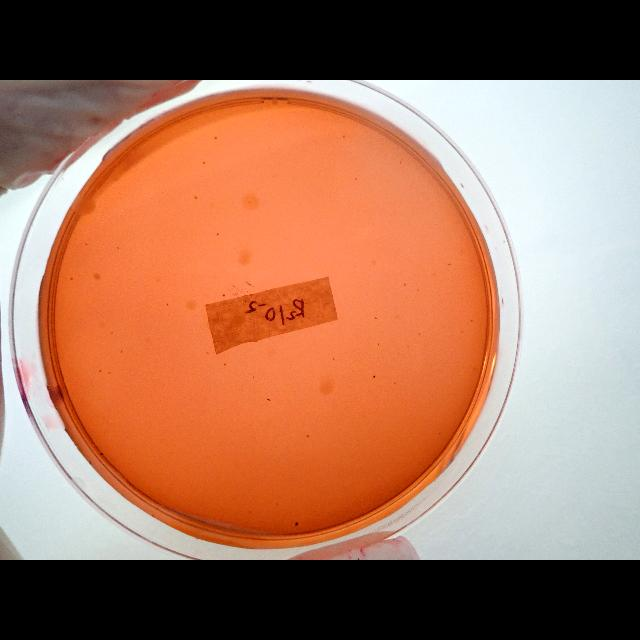colony: (292, 517, 300, 531), (264, 394, 272, 406), (98, 448, 106, 460), (370, 371, 378, 383), (114, 244, 122, 252), (214, 230, 222, 238), (192, 194, 200, 202), (118, 348, 124, 356), (251, 372, 257, 380), (164, 300, 170, 308), (213, 134, 219, 142), (373, 314, 379, 322), (202, 158, 206, 168), (109, 330, 115, 336), (330, 356, 336, 362), (222, 291, 226, 299), (377, 342, 381, 346)
